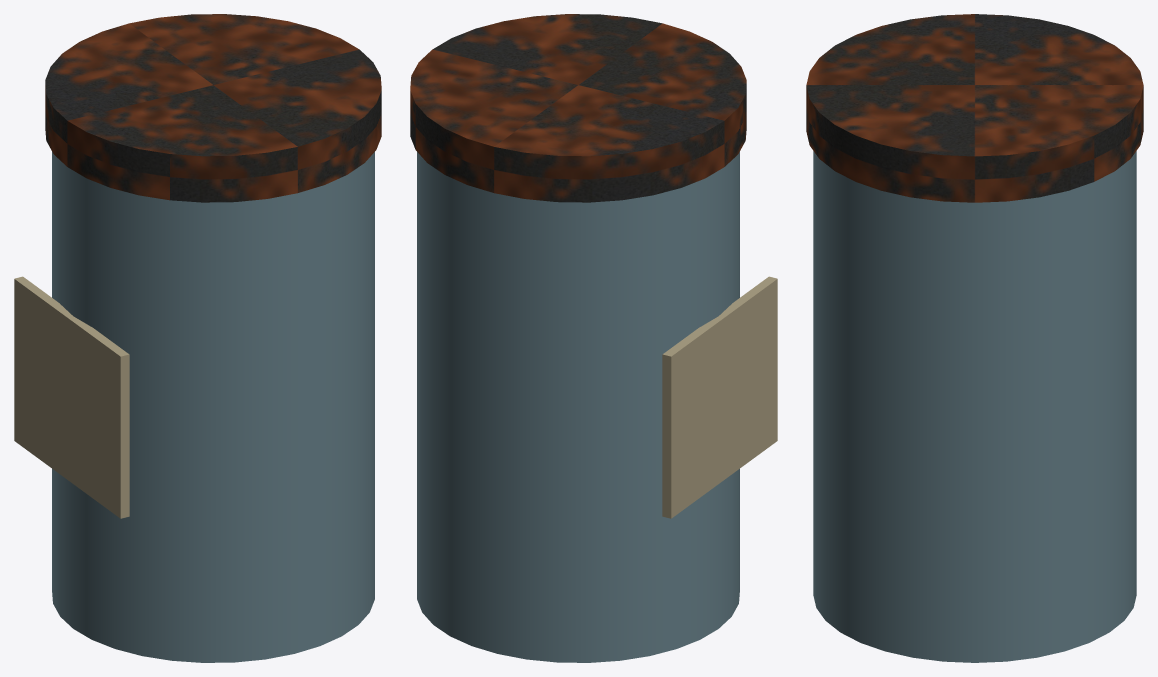
File: SM_ConfectioneryJar_bcc42a8e41.fbx
The picture shows the model from 3 angles, left to right: view 1: azimuth 30°, elevation 25°; view 2: azimuth 150°, elevation 25°; view 3: azimuth 270°, elevation 25°; orthographic projection.
Visible parts, largest first — view 1: SM_ConfectioneryJar_bcc42a8e41; view 2: SM_ConfectioneryJar_bcc42a8e41; view 3: SM_ConfectioneryJar_bcc42a8e41.
Part boxes in pixels (x1,y1,x2,y2): SM_ConfectioneryJar_bcc42a8e41: [14, 14, 381, 662]; SM_ConfectioneryJar_bcc42a8e41: [410, 14, 777, 662]; SM_ConfectioneryJar_bcc42a8e41: [806, 14, 1143, 662].
Size of what is drawn, in the model's own units: 19.8 by 19.8 by 33.
5 materials, 3 textured.
